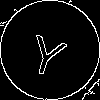Y: (25, 25, 71, 79)
